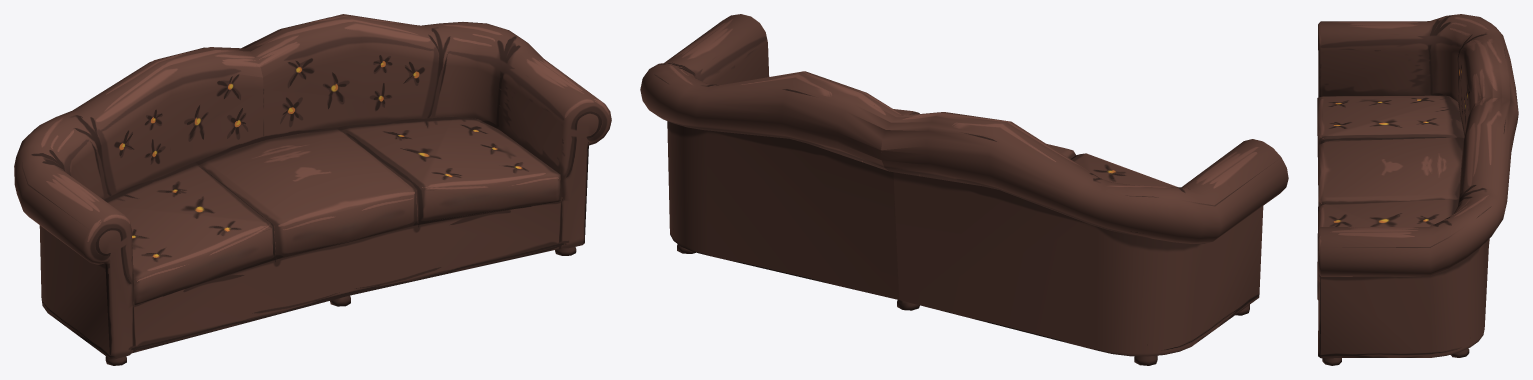
File: sofa.fbx
The picture shows the model from 3 angles, left to right: view 1: azimuth 30°, elevation 25°; view 2: azimuth 150°, elevation 25°; view 3: azimuth 270°, elevation 25°; orthographic projection. The views are drawn at different scales.
Visible parts, largest first — view 1: sofa_1; view 2: sofa_1; view 3: sofa_1.
Part boxes in pixels (box(x1,y1,x2,y2)): sofa_1: box(14, 14, 611, 365); sofa_1: box(640, 14, 1288, 365); sofa_1: box(1317, 14, 1518, 365).
Bounding box in the file's own units: 287 × 106 × 107.
